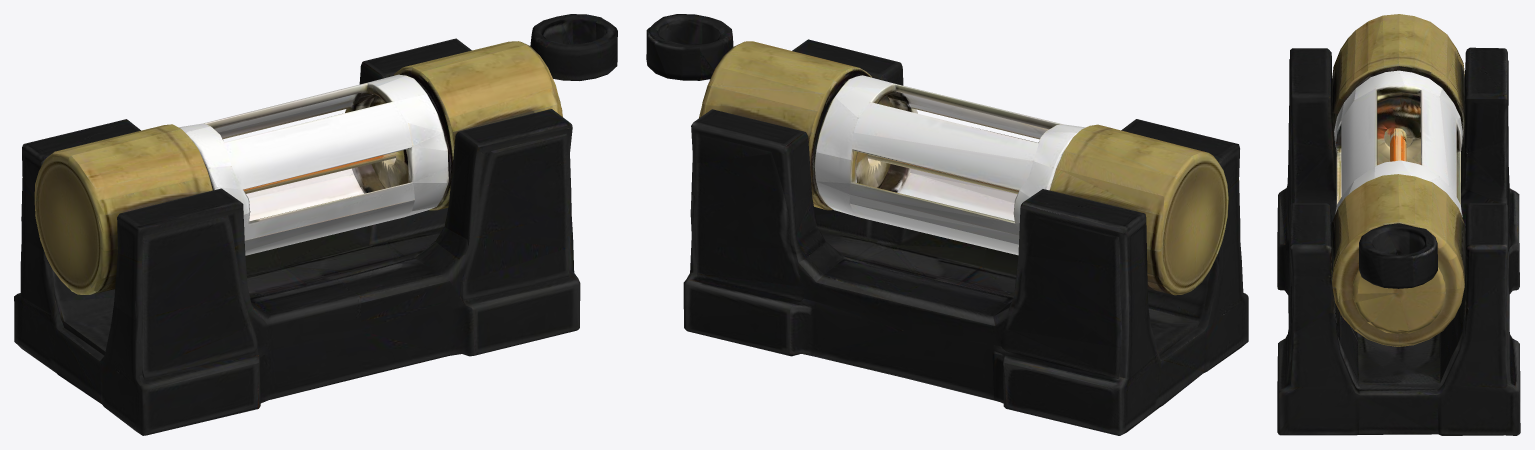
The model's file is safety_fuse.glb.
3 views of the same model, side by side, from view 1: azimuth 30°, elevation 25°; view 2: azimuth 150°, elevation 25°; view 3: azimuth 270°, elevation 25° (orthographic). The views are drawn at different scales.
Bounding box in the file's own units: 1 × 0.4238 × 0.417.
Materials: 1 (1 with a texture image).
